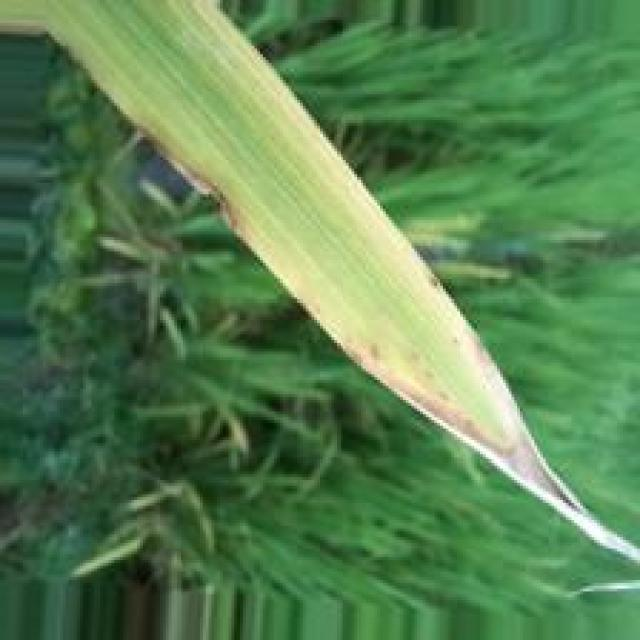Rice False Smut: (389, 338, 584, 519)
